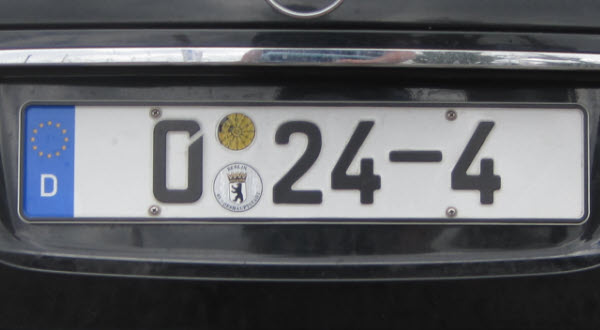license_plate: (18, 101, 591, 225)
